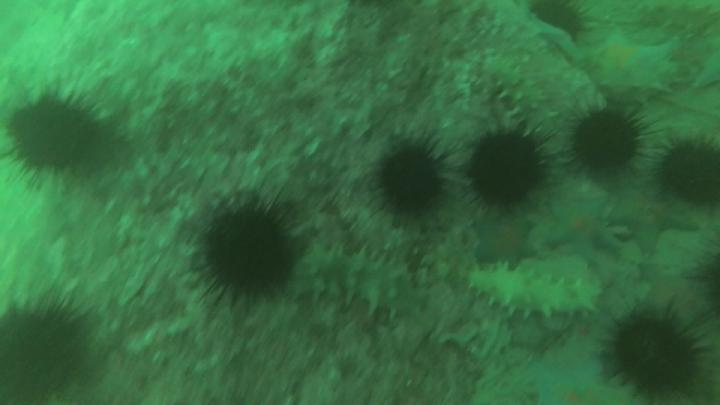echinus: (203, 205, 297, 290), (2, 309, 82, 405), (10, 96, 104, 175), (614, 318, 700, 396), (470, 130, 545, 207), (378, 149, 443, 212), (576, 109, 640, 171), (665, 138, 720, 204), (528, 1, 583, 42)
holothurian: (485, 61, 572, 175), (307, 244, 426, 318), (468, 266, 603, 321)
starfish: (613, 193, 701, 258), (550, 194, 620, 267), (591, 30, 675, 86), (476, 215, 539, 271)
